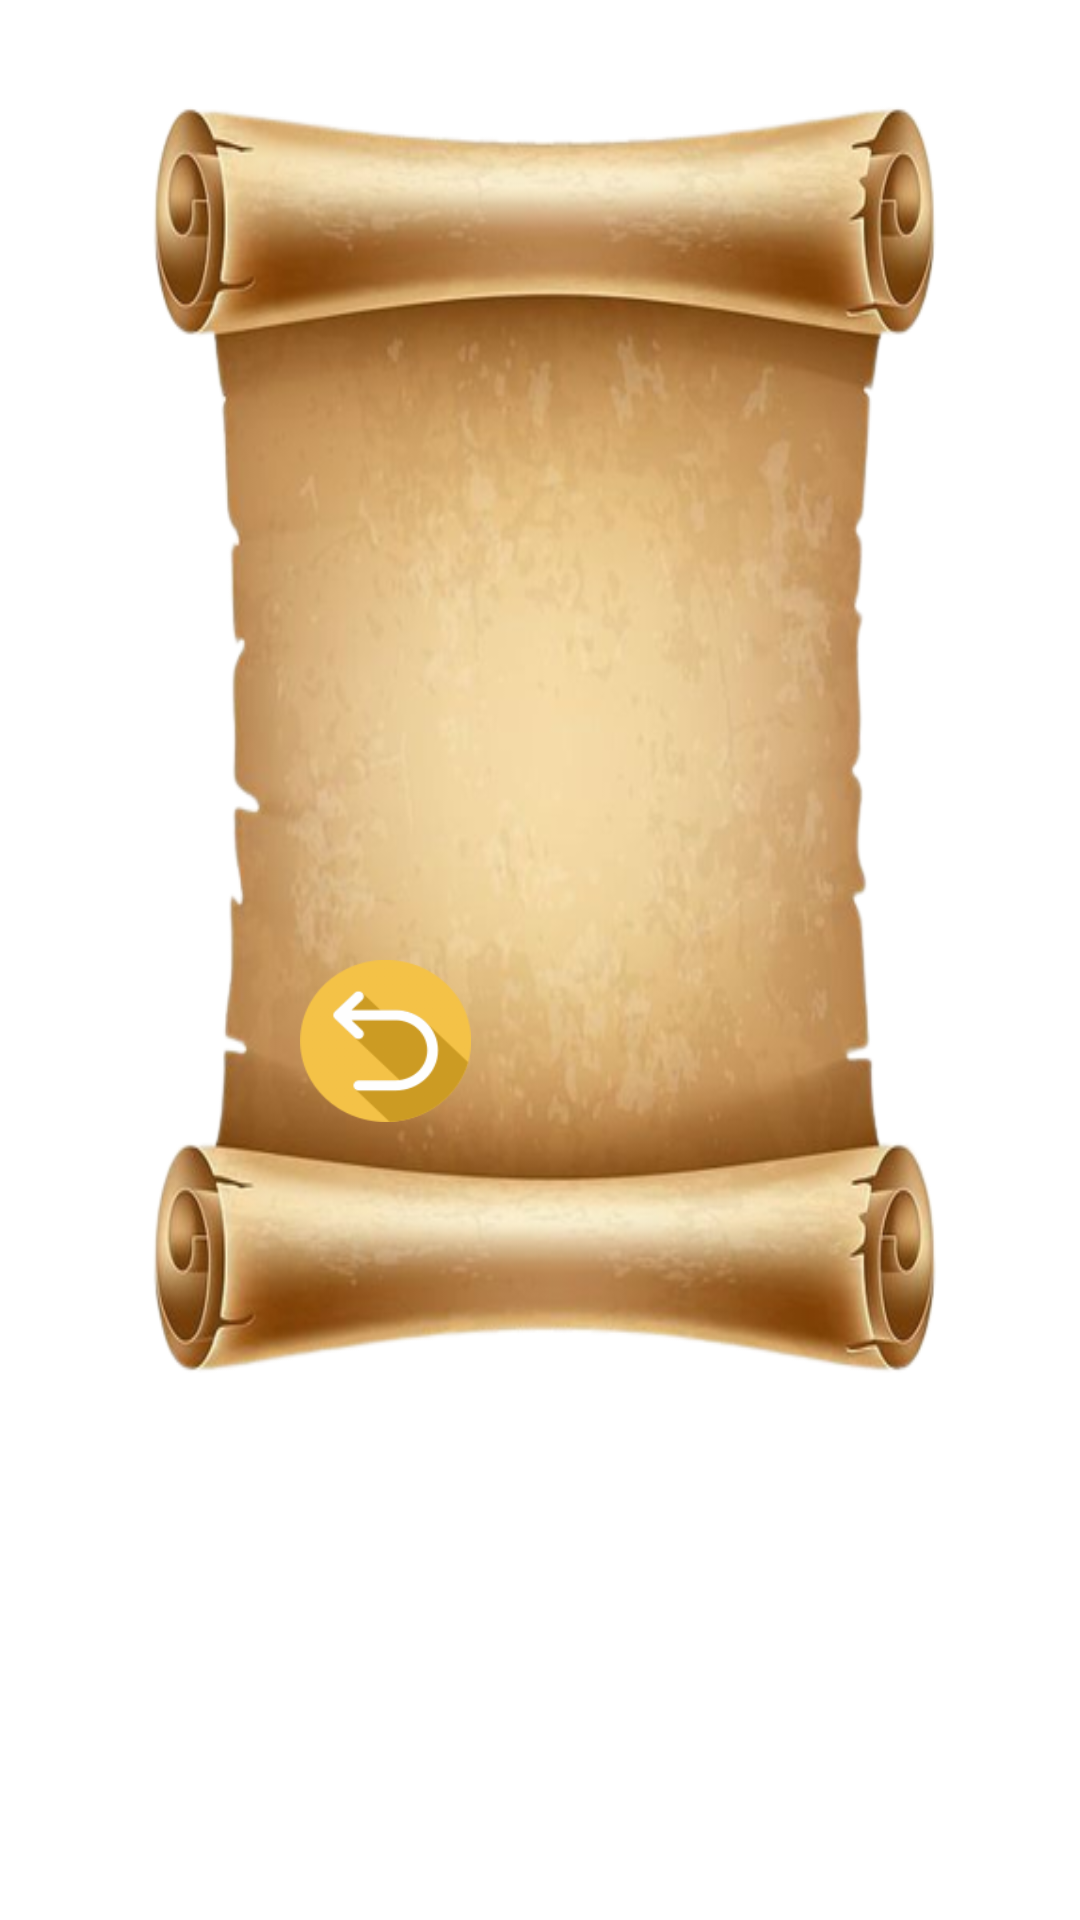

Named icons in this screenshot (1080px×1920px) and their centers, (x,y):
undo: (385,1041)
